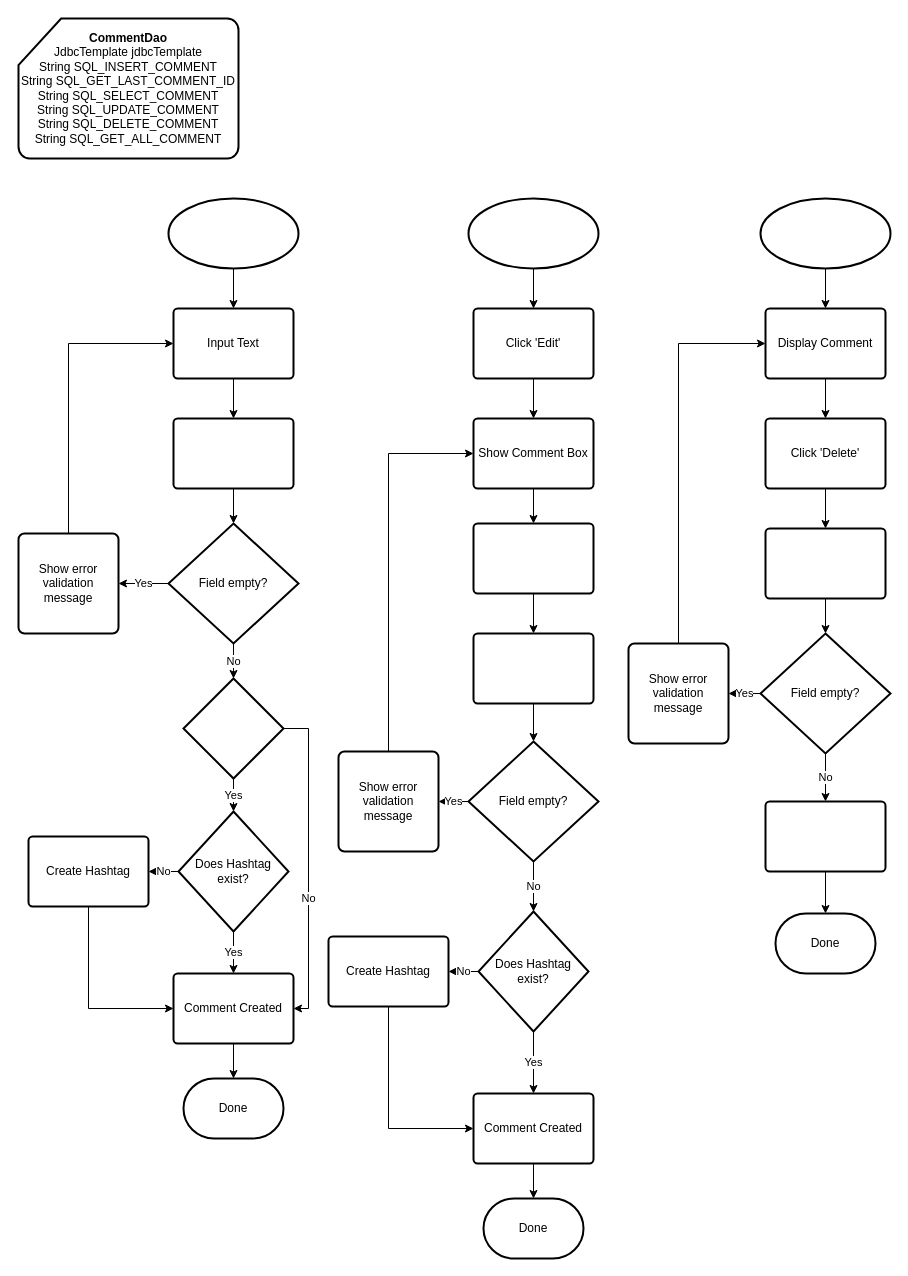
The diagram is 908 pixels wide and 1276 high, and some of its shapes have lost their labels. Each missing label, with the centre of its shape:
"Add Comment" goes at pixel 233 233.
"Check for Hashtags" goes at pixel 233 728.
"Click 'Create'" goes at pixel 233 453.
"Click 'Update'" goes at pixel 533 668.
"Comment Deleted" goes at pixel 825 836.
"Confirm Delete" goes at pixel 825 563.
"Delete Comment" goes at pixel 825 233.
"Edit Text" goes at pixel 533 558.
"Update Comment" goes at pixel 533 233.
